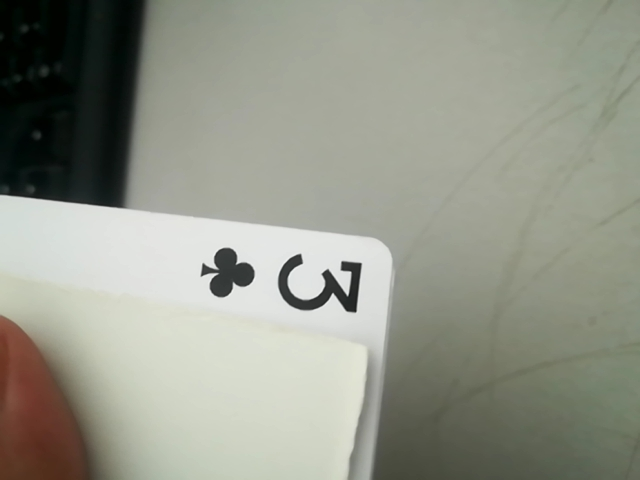mh 3: (185, 231, 384, 339)
